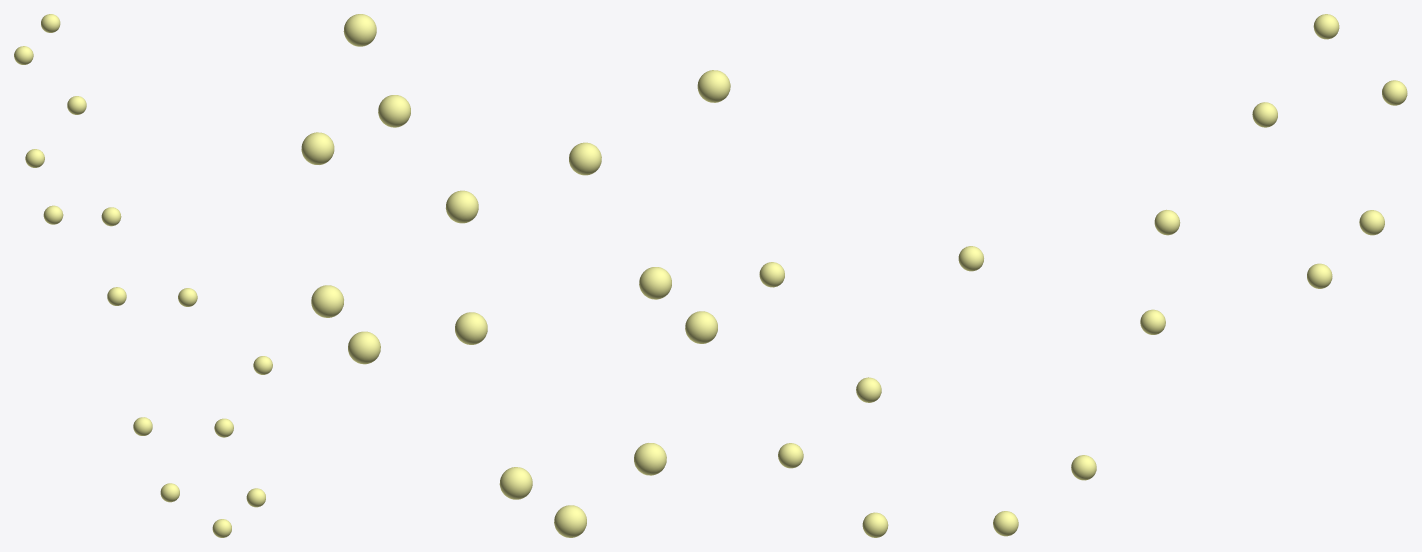
The model's file is Scorpio.glb.
The picture shows the model from 3 angles, left to right: view 1: azimuth 30°, elevation 25°; view 2: azimuth 150°, elevation 25°; view 3: azimuth 270°, elevation 25°; orthographic projection. The views are drawn at different scales.
Parts seen in each view (by area): view 1: no part large enough to name; view 2: instance_11, instance_10, instance_4, instance_7, instance_2, instance_3, instance_12, instance_8, instance_1, instance_13, instance_5, instance_6 (+2 smaller); view 3: no part large enough to name.
Boxes of the visible parts, bbox=[...] form: instance_11: bbox=[445, 190, 478, 223]; instance_10: bbox=[569, 142, 601, 175]; instance_4: bbox=[301, 132, 334, 164]; instance_7: bbox=[348, 331, 380, 364]; instance_2: bbox=[697, 70, 730, 102]; instance_3: bbox=[455, 312, 487, 344]; instance_12: bbox=[343, 14, 376, 46]; instance_8: bbox=[554, 505, 586, 537]; instance_1: bbox=[685, 311, 717, 343]; instance_13: bbox=[378, 95, 410, 127]; instance_5: bbox=[639, 267, 671, 299]; instance_6: bbox=[311, 285, 343, 317].
Bounding box in the file's own units: 0.0909 × 1.54 × 1.74.
